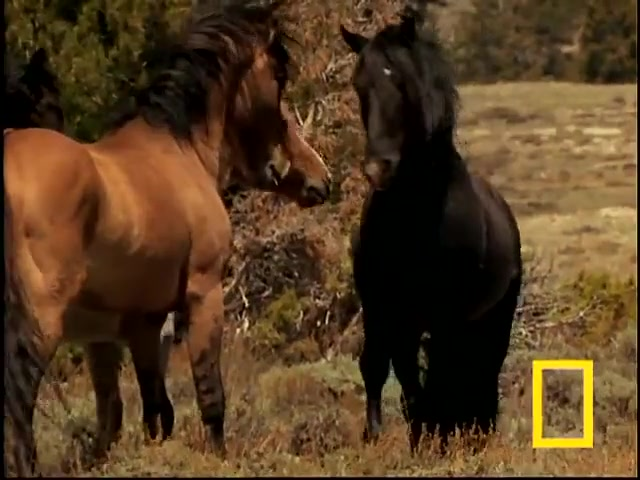horse: (339, 4, 526, 451)
